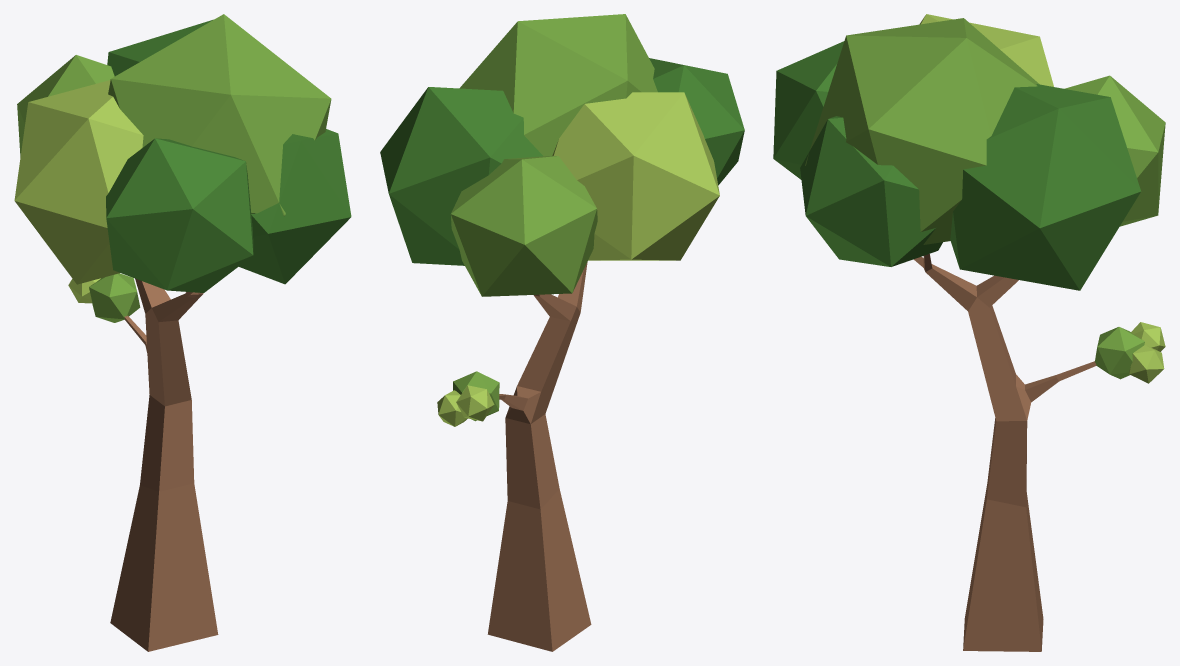
File: OakTree1.fbx
3 renders of one model, left to right at view 1: azimuth 30°, elevation 25°; view 2: azimuth 150°, elevation 25°; view 3: azimuth 270°, elevation 25°, orthographic. The views are drawn at different scales.
Visible parts, largest first — view 1: Trunk, Icosphere.004, Icosphere.006, Icosphere.003, Icosphere.007, Icosphere.002, Icosphere, Icosphere.005; view 2: Icosphere.003, Trunk, Icosphere.002, Icosphere.005, Icosphere.004, Icosphere.006, Icosphere.001, Icosphere, Icosphere.008; view 3: Icosphere.005, Icosphere.004, Trunk, Icosphere.007, Icosphere.006, Icosphere.002, Icosphere.003, Icosphere, Icosphere.008, Icosphere.001.
Boxes of the visible parts, x1=… form: Trunk: x1=110, y1=278, x2=218, y2=651; Icosphere.004: x1=108, y1=14, x2=331, y2=215; Icosphere.006: x1=106, y1=138, x2=253, y2=292; Icosphere.003: x1=14, y1=80, x2=143, y2=284; Icosphere.007: x1=239, y1=129, x2=351, y2=284; Icosphere.002: x1=17, y1=55, x2=114, y2=157; Icosphere: x1=89, y1=273, x2=140, y2=322; Icosphere.005: x1=107, y1=19, x2=213, y2=76; Icosphere.003: x1=552, y1=92, x2=719, y2=260; Trunk: x1=487, y1=262, x2=591, y2=651; Icosphere.002: x1=450, y1=156, x2=597, y2=296; Icosphere.005: x1=380, y1=87, x2=542, y2=265; Icosphere.004: x1=459, y1=14, x2=657, y2=156; Icosphere.006: x1=649, y1=58, x2=744, y2=185; Icosphere.001: x1=456, y1=385, x2=494, y2=421; Icosphere: x1=453, y1=371, x2=499, y2=421; Icosphere.008: x1=437, y1=390, x2=467, y2=426; Icosphere.005: x1=950, y1=84, x2=1141, y2=290; Icosphere.004: x1=805, y1=18, x2=1039, y2=244; Trunk: x1=914, y1=254, x2=1096, y2=651; Icosphere.007: x1=800, y1=116, x2=942, y2=266; Icosphere.006: x1=773, y1=41, x2=844, y2=179; Icosphere.002: x1=1064, y1=75, x2=1165, y2=226; Icosphere.003: x1=919, y1=14, x2=1053, y2=86; Icosphere: x1=1095, y1=327, x2=1144, y2=379; Icosphere.008: x1=1129, y1=344, x2=1164, y2=383; Icosphere.001: x1=1131, y1=322, x2=1165, y2=351.
Bounding box in the file's own units: 1137 × 2101 × 1209.
